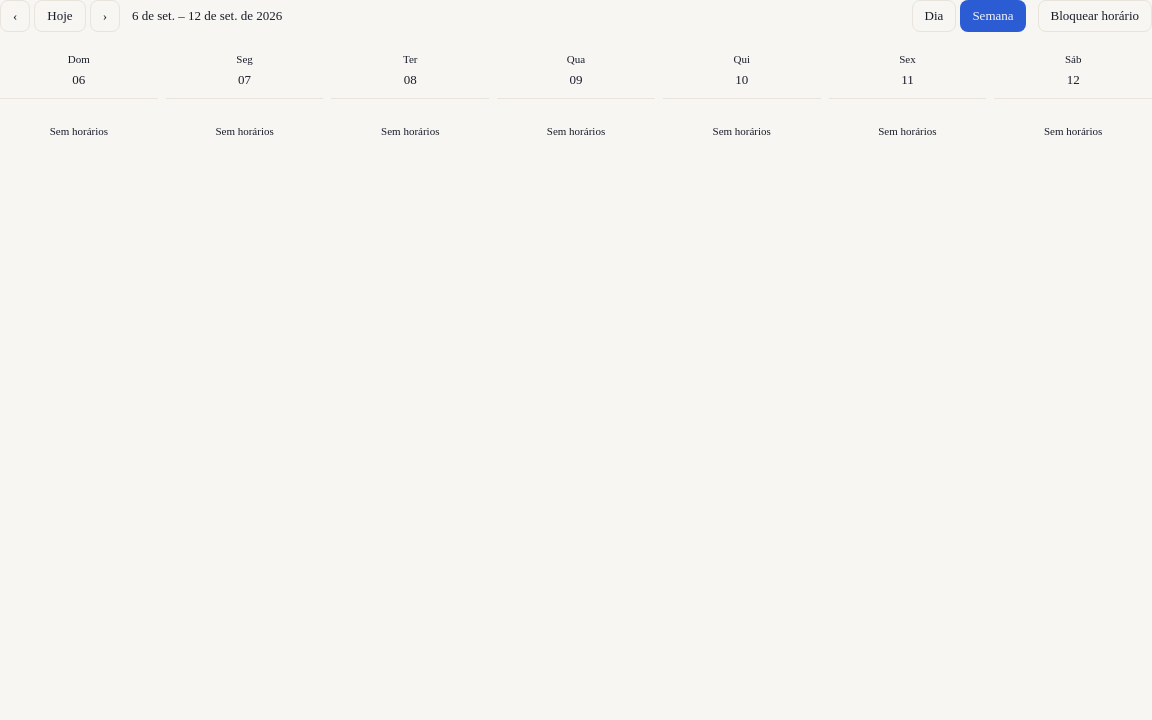
Test: AppointmentAgenda (integration) › DOCTOR "Bloquear horário" closes BlockTimeDialog on close
Click the button with test id "toolbar-block-time": click(1095, 16) [1038, 0, 1151, 32]
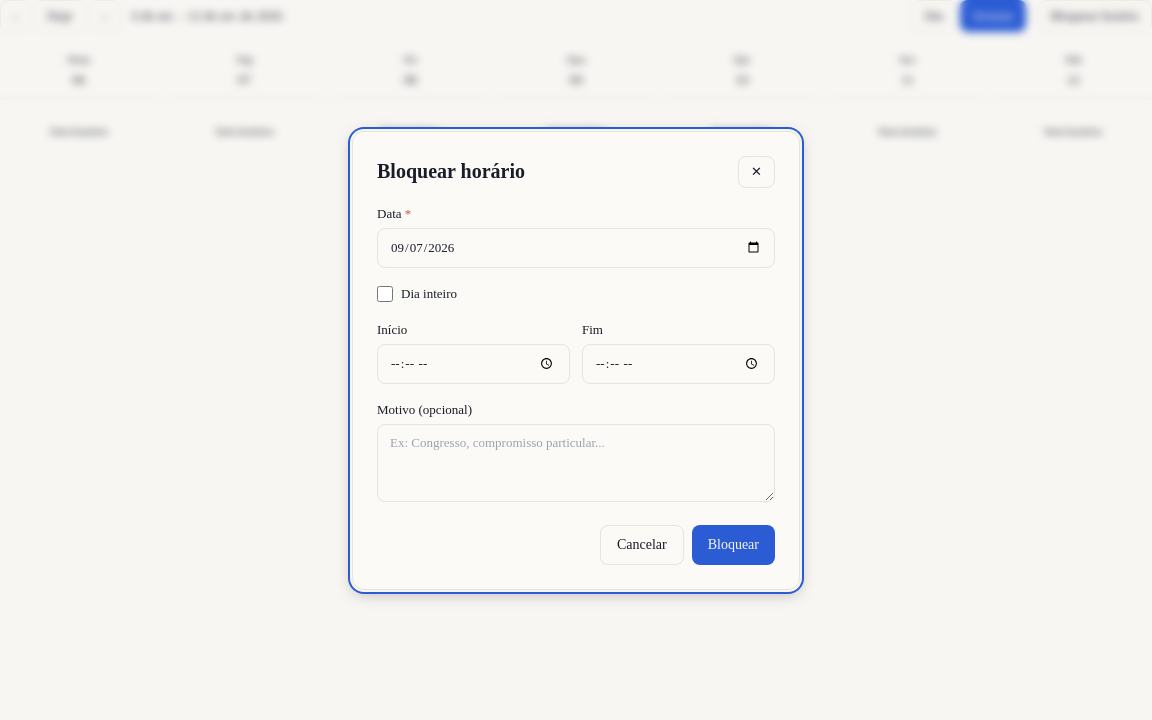
Check: the dialog with test id "block-time-dialog" is shown, box [352, 130, 800, 590]
Click the button named "Fechar": click(757, 172) [738, 156, 775, 188]
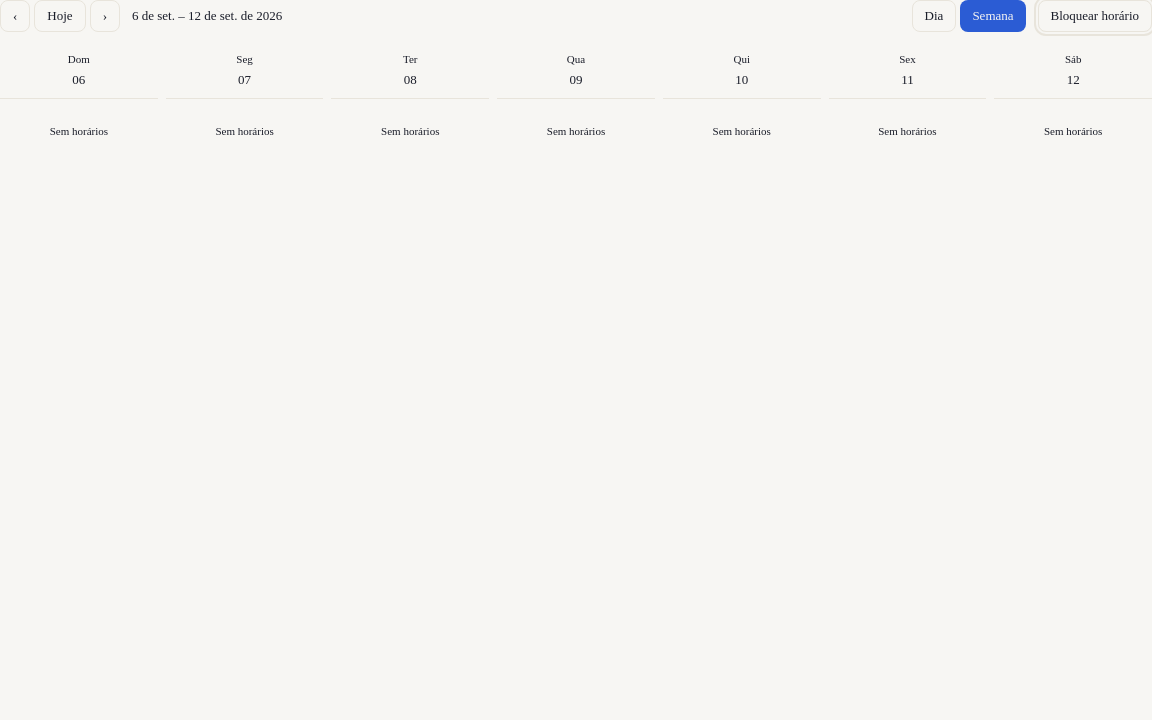
Check: the dialog with test id "block-time-dialog" is gone
